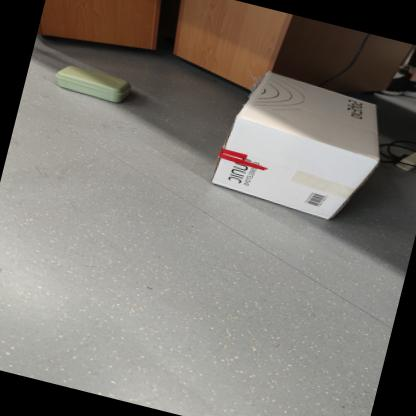box: (202, 52, 412, 235), (46, 50, 152, 117)
